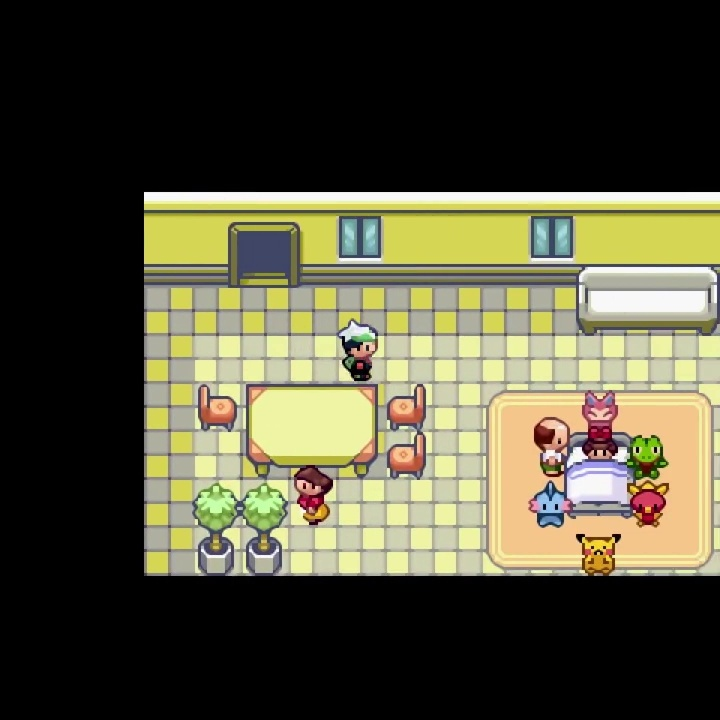npc: (293, 464, 337, 529), (336, 319, 380, 382), (528, 411, 568, 476), (581, 425, 620, 469)
